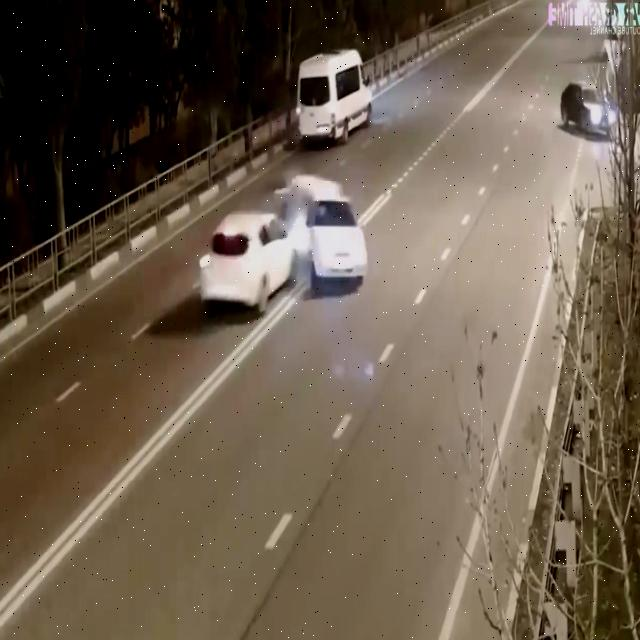accident: (193, 146, 372, 328)
